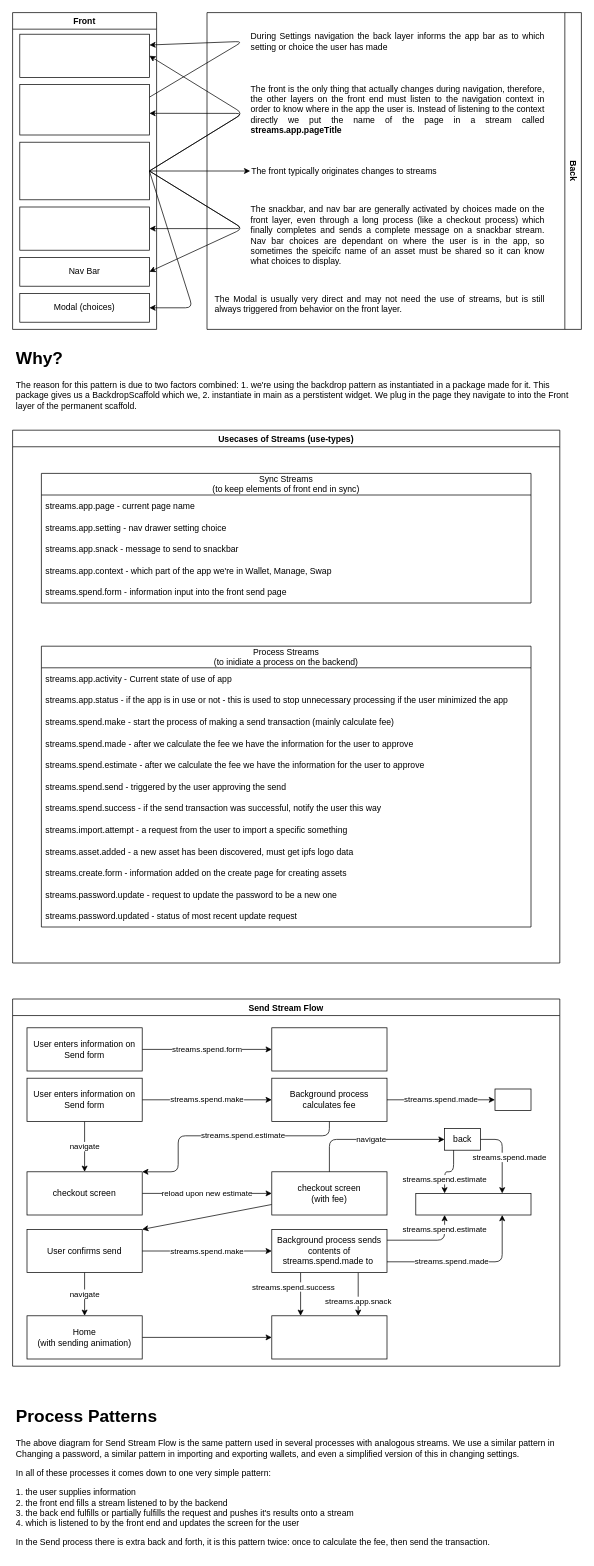
This 594x1566 diagram has some shape labels left out. Here are the shapes that lost their labels. From the top down, the centre of each, then its label:
At (x=84, y=55): "App Bar".
At (x=84, y=109): "Back (blue)".
At (x=84, y=170): "Front (white)".
At (x=84, y=228): "snackbar".
At (x=329, y=1049): "Back Layer on front end updates".
At (x=512, y=1099): ".value".
At (x=473, y=1204): "null".
At (x=329, y=1337): "Snack Bar".
